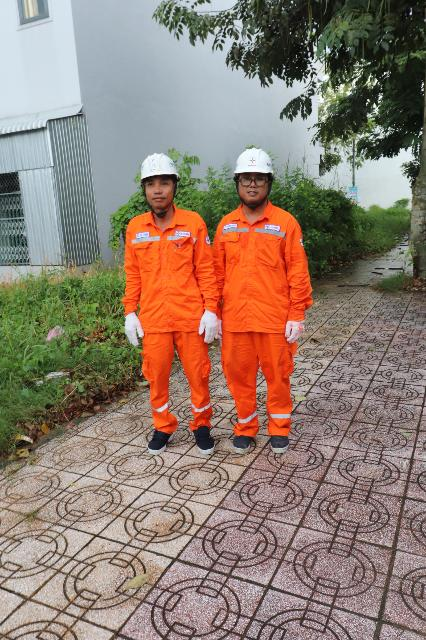gloves: (283, 317, 319, 351), (121, 311, 148, 351), (192, 309, 214, 345), (213, 314, 228, 342)
helmet: (136, 154, 184, 179), (235, 150, 275, 179)
shoes: (220, 425, 258, 462), (264, 419, 292, 460), (194, 421, 219, 460), (151, 425, 169, 456)
